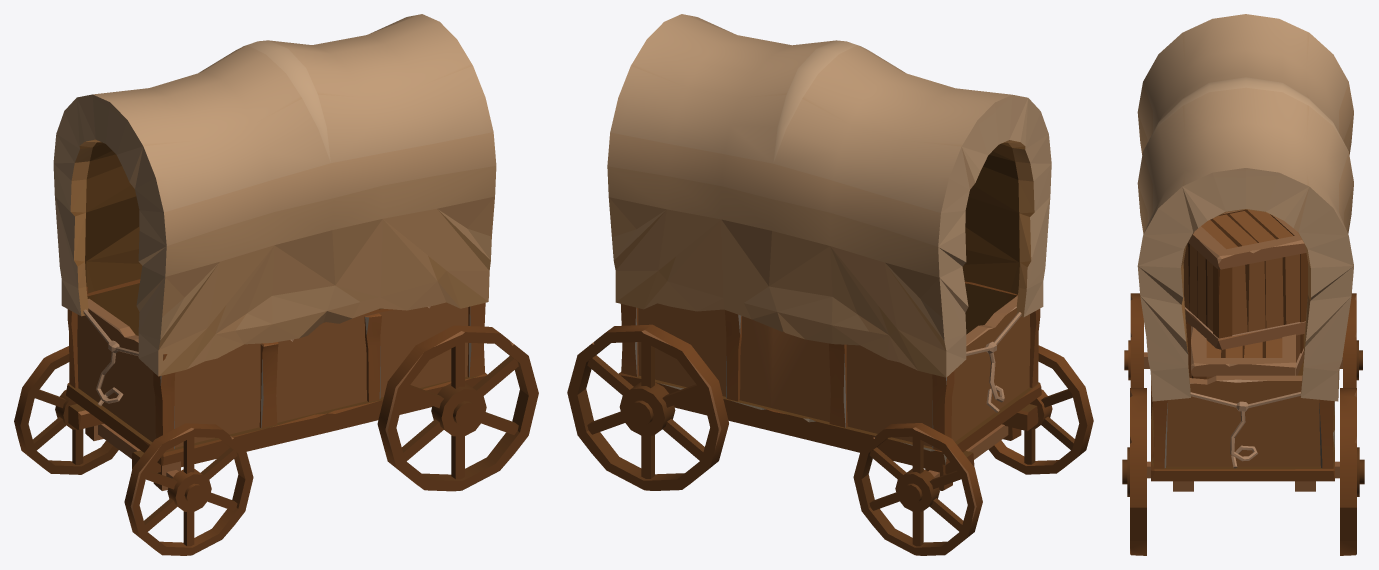
Rendered from BG_Carriage.fbx.
3 views of the same model, side by side, from view 1: azimuth 30°, elevation 25°; view 2: azimuth 150°, elevation 25°; view 3: azimuth 270°, elevation 25° (orthographic). The views are drawn at different scales.
Parts seen in each view (by area): view 1: BG_Carriage; view 2: BG_Carriage; view 3: BG_Carriage.
Part boxes in pixels (x1=…): BG_Carriage: x1=14, y1=14, x2=538, y2=555; BG_Carriage: x1=567, y1=14, x2=1093, y2=555; BG_Carriage: x1=1122, y1=14, x2=1364, y2=555.
Bounding box in the file's own units: 32.01 × 32.13 × 17.26.
1 material, 1 textured.
